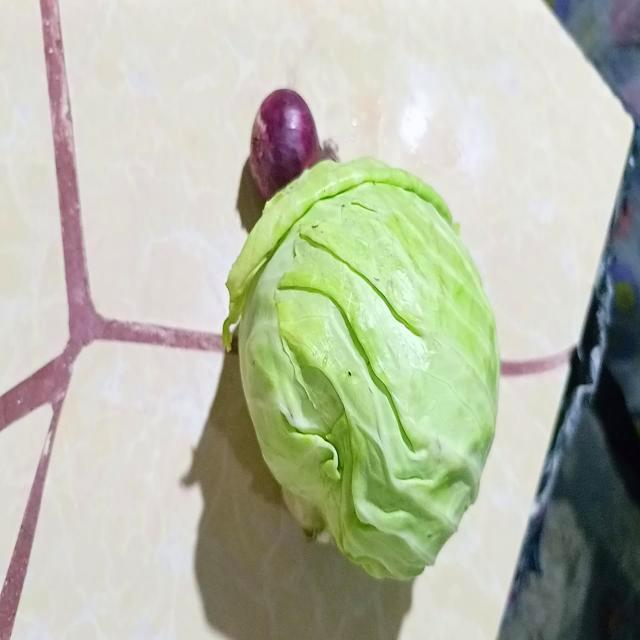cabbage: (225, 159, 497, 583)
onion: (247, 88, 335, 202)
